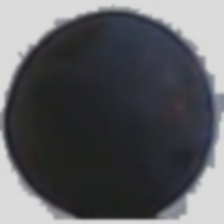grapes: (26, 14, 186, 202)
